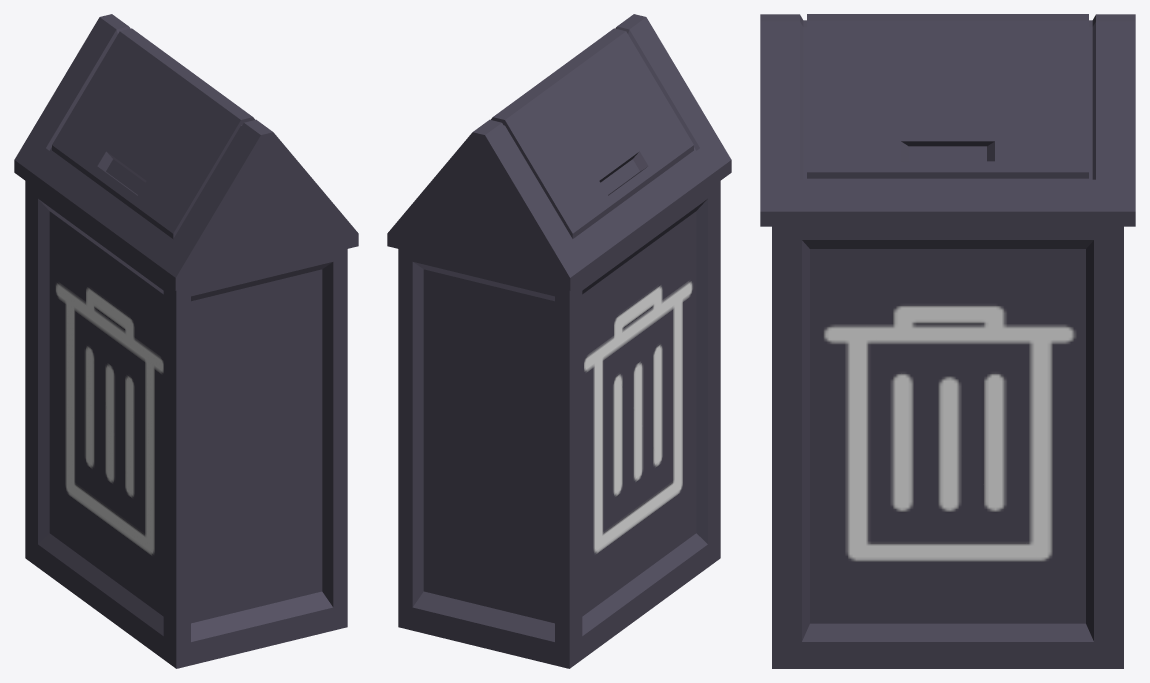
Rendered from TrashCan.fbx.
3 views of the same model, side by side, from view 1: azimuth 30°, elevation 25°; view 2: azimuth 150°, elevation 25°; view 3: azimuth 270°, elevation 25° (orthographic). The views are drawn at different scales.
Parts seen in each view (by area): view 1: TrashCan; view 2: TrashCan; view 3: TrashCan.
Boxes of the visible parts, x1=… form: TrashCan: x1=14, y1=14, x2=358, y2=668; TrashCan: x1=387, y1=14, x2=731, y2=668; TrashCan: x1=760, y1=14, x2=1135, y2=668.
Bounding box in the file's own units: 186 × 503 × 284.
